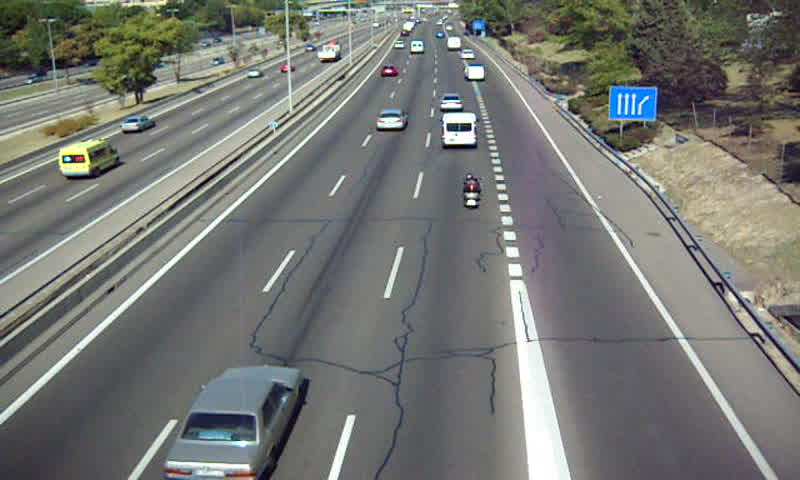car: (165, 366, 304, 478), (374, 109, 409, 132), (438, 93, 464, 112), (379, 66, 395, 79)
motorcycle: (460, 174, 484, 211)
van: (440, 113, 477, 147), (462, 66, 486, 82)
